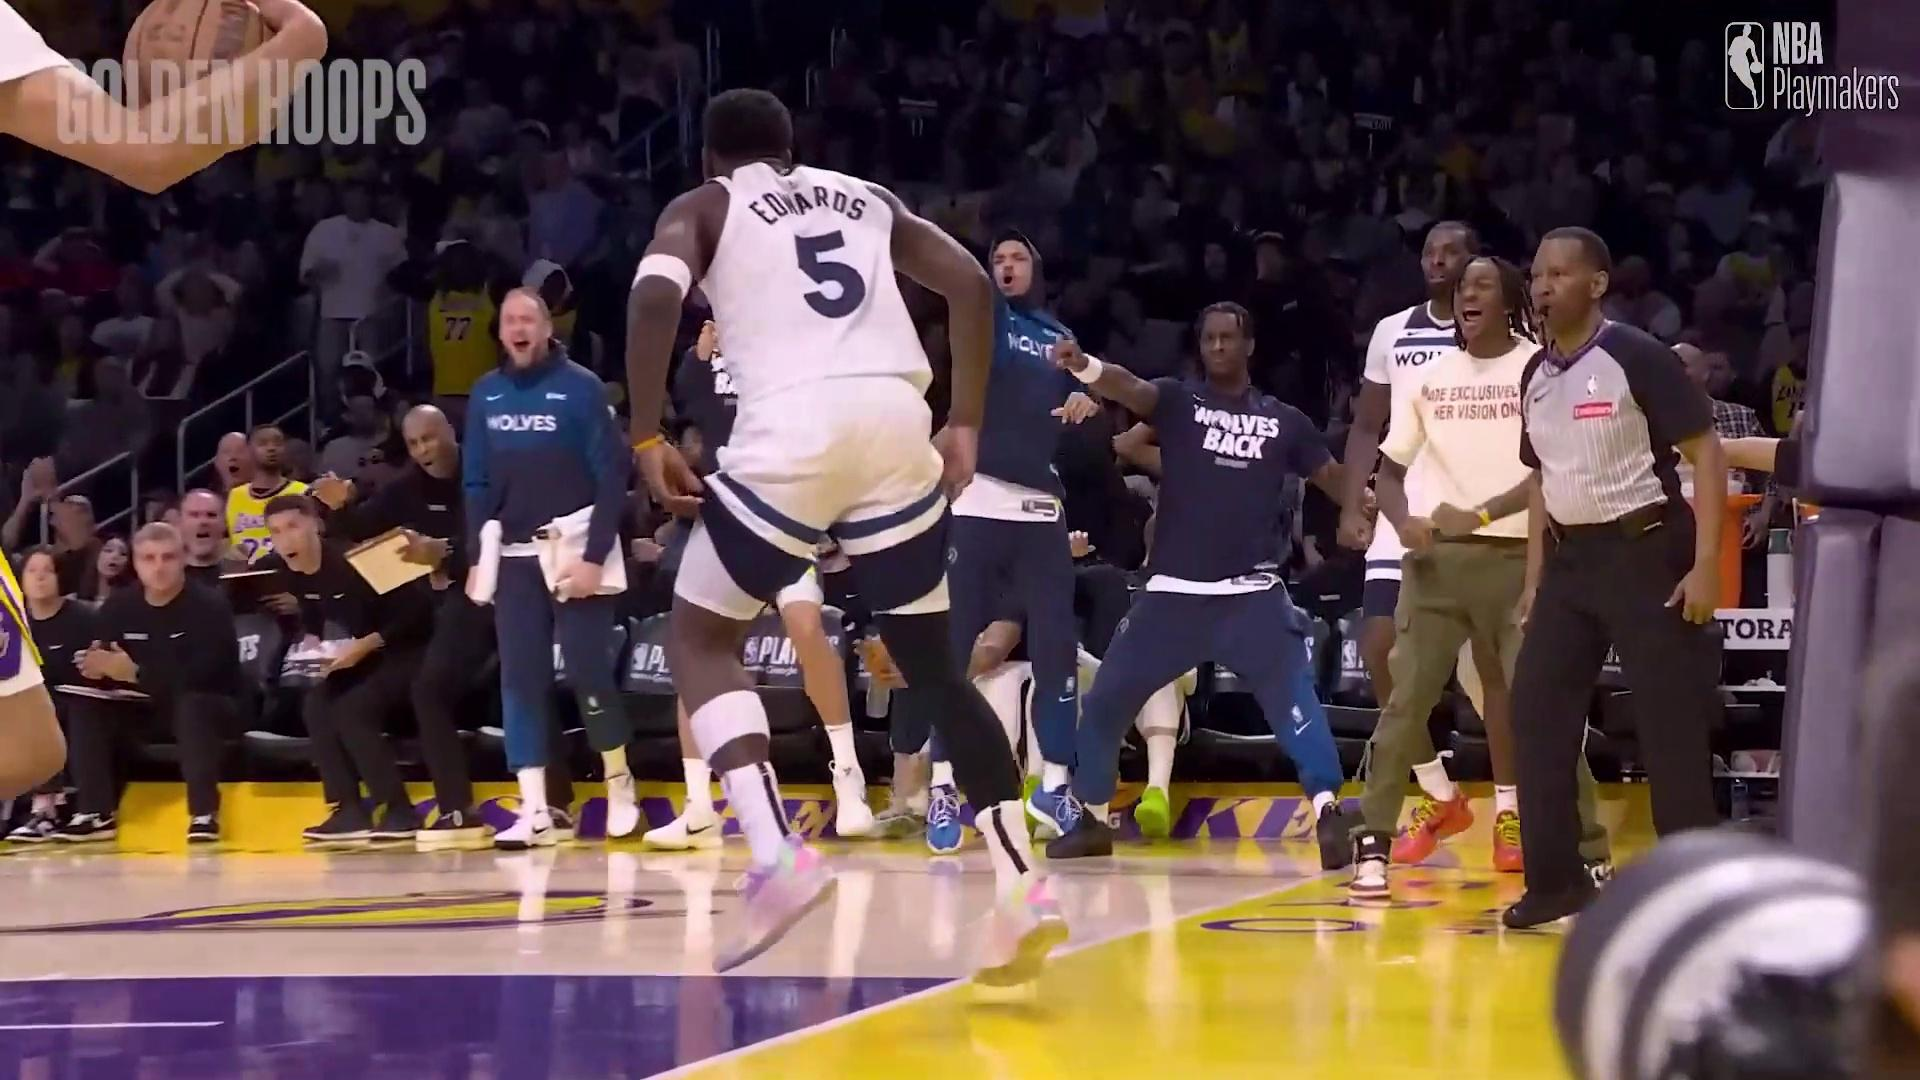ball: (120, 0, 265, 96)
